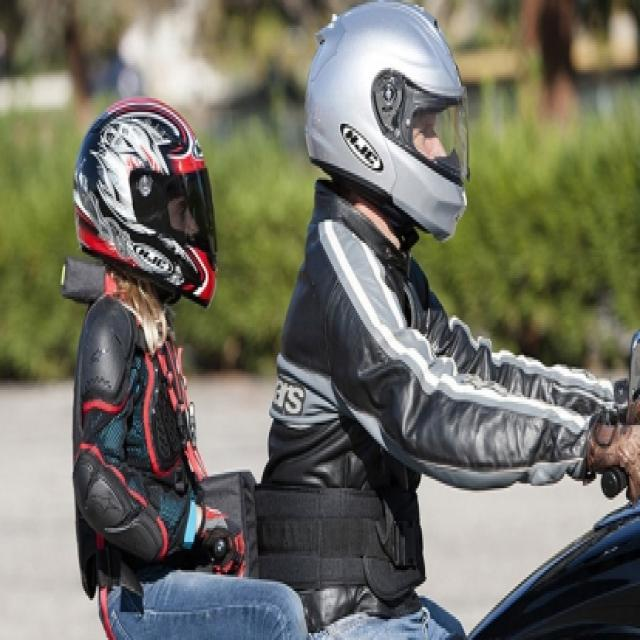helmet: (286, 0, 499, 269), (59, 74, 238, 323)
